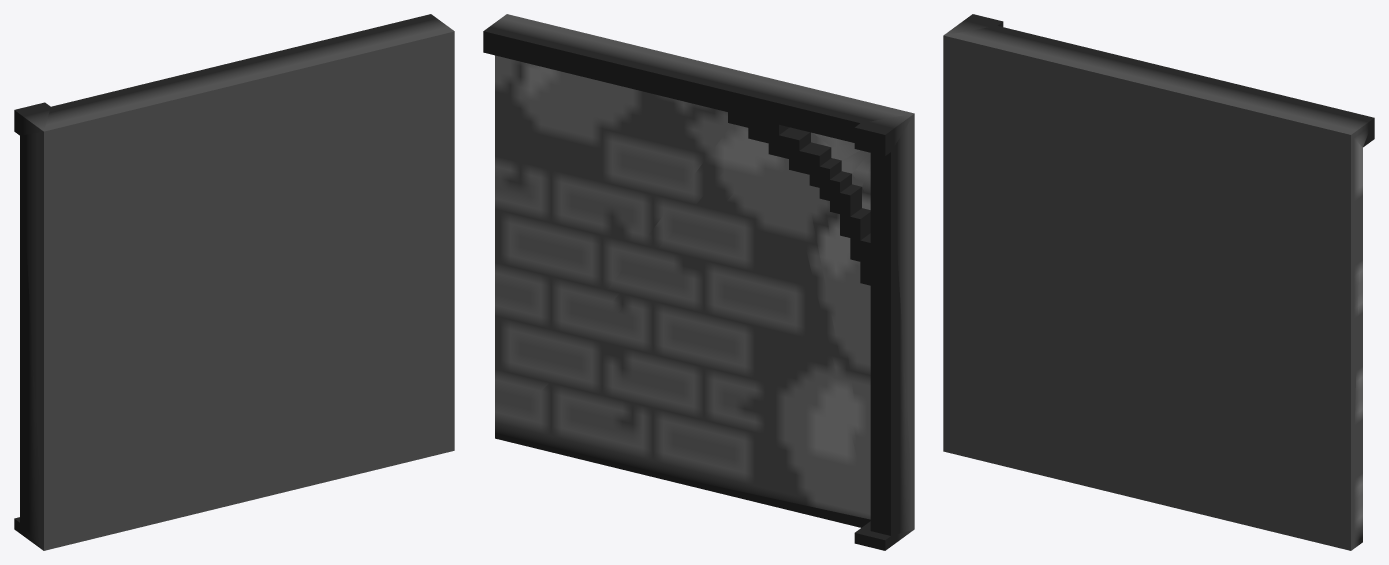
The model's file is WallBrick_EL.fbx.
The picture shows the model from 3 angles, left to right: view 1: azimuth 30°, elevation 25°; view 2: azimuth 150°, elevation 25°; view 3: azimuth 330°, elevation 25°; orthographic projection.
Parts seen in each view (by area): view 1: WallBrick_EL.Merged; view 2: WallBrick_EL.Merged; view 3: WallBrick_EL.Merged.
Boxes of the visible parts, x1,y1,x2,y2 form: WallBrick_EL.Merged: [14, 14, 454, 550]; WallBrick_EL.Merged: [483, 14, 914, 550]; WallBrick_EL.Merged: [943, 14, 1374, 550].
Size of the model in its own units: 1000 by 8000 by 7800.
